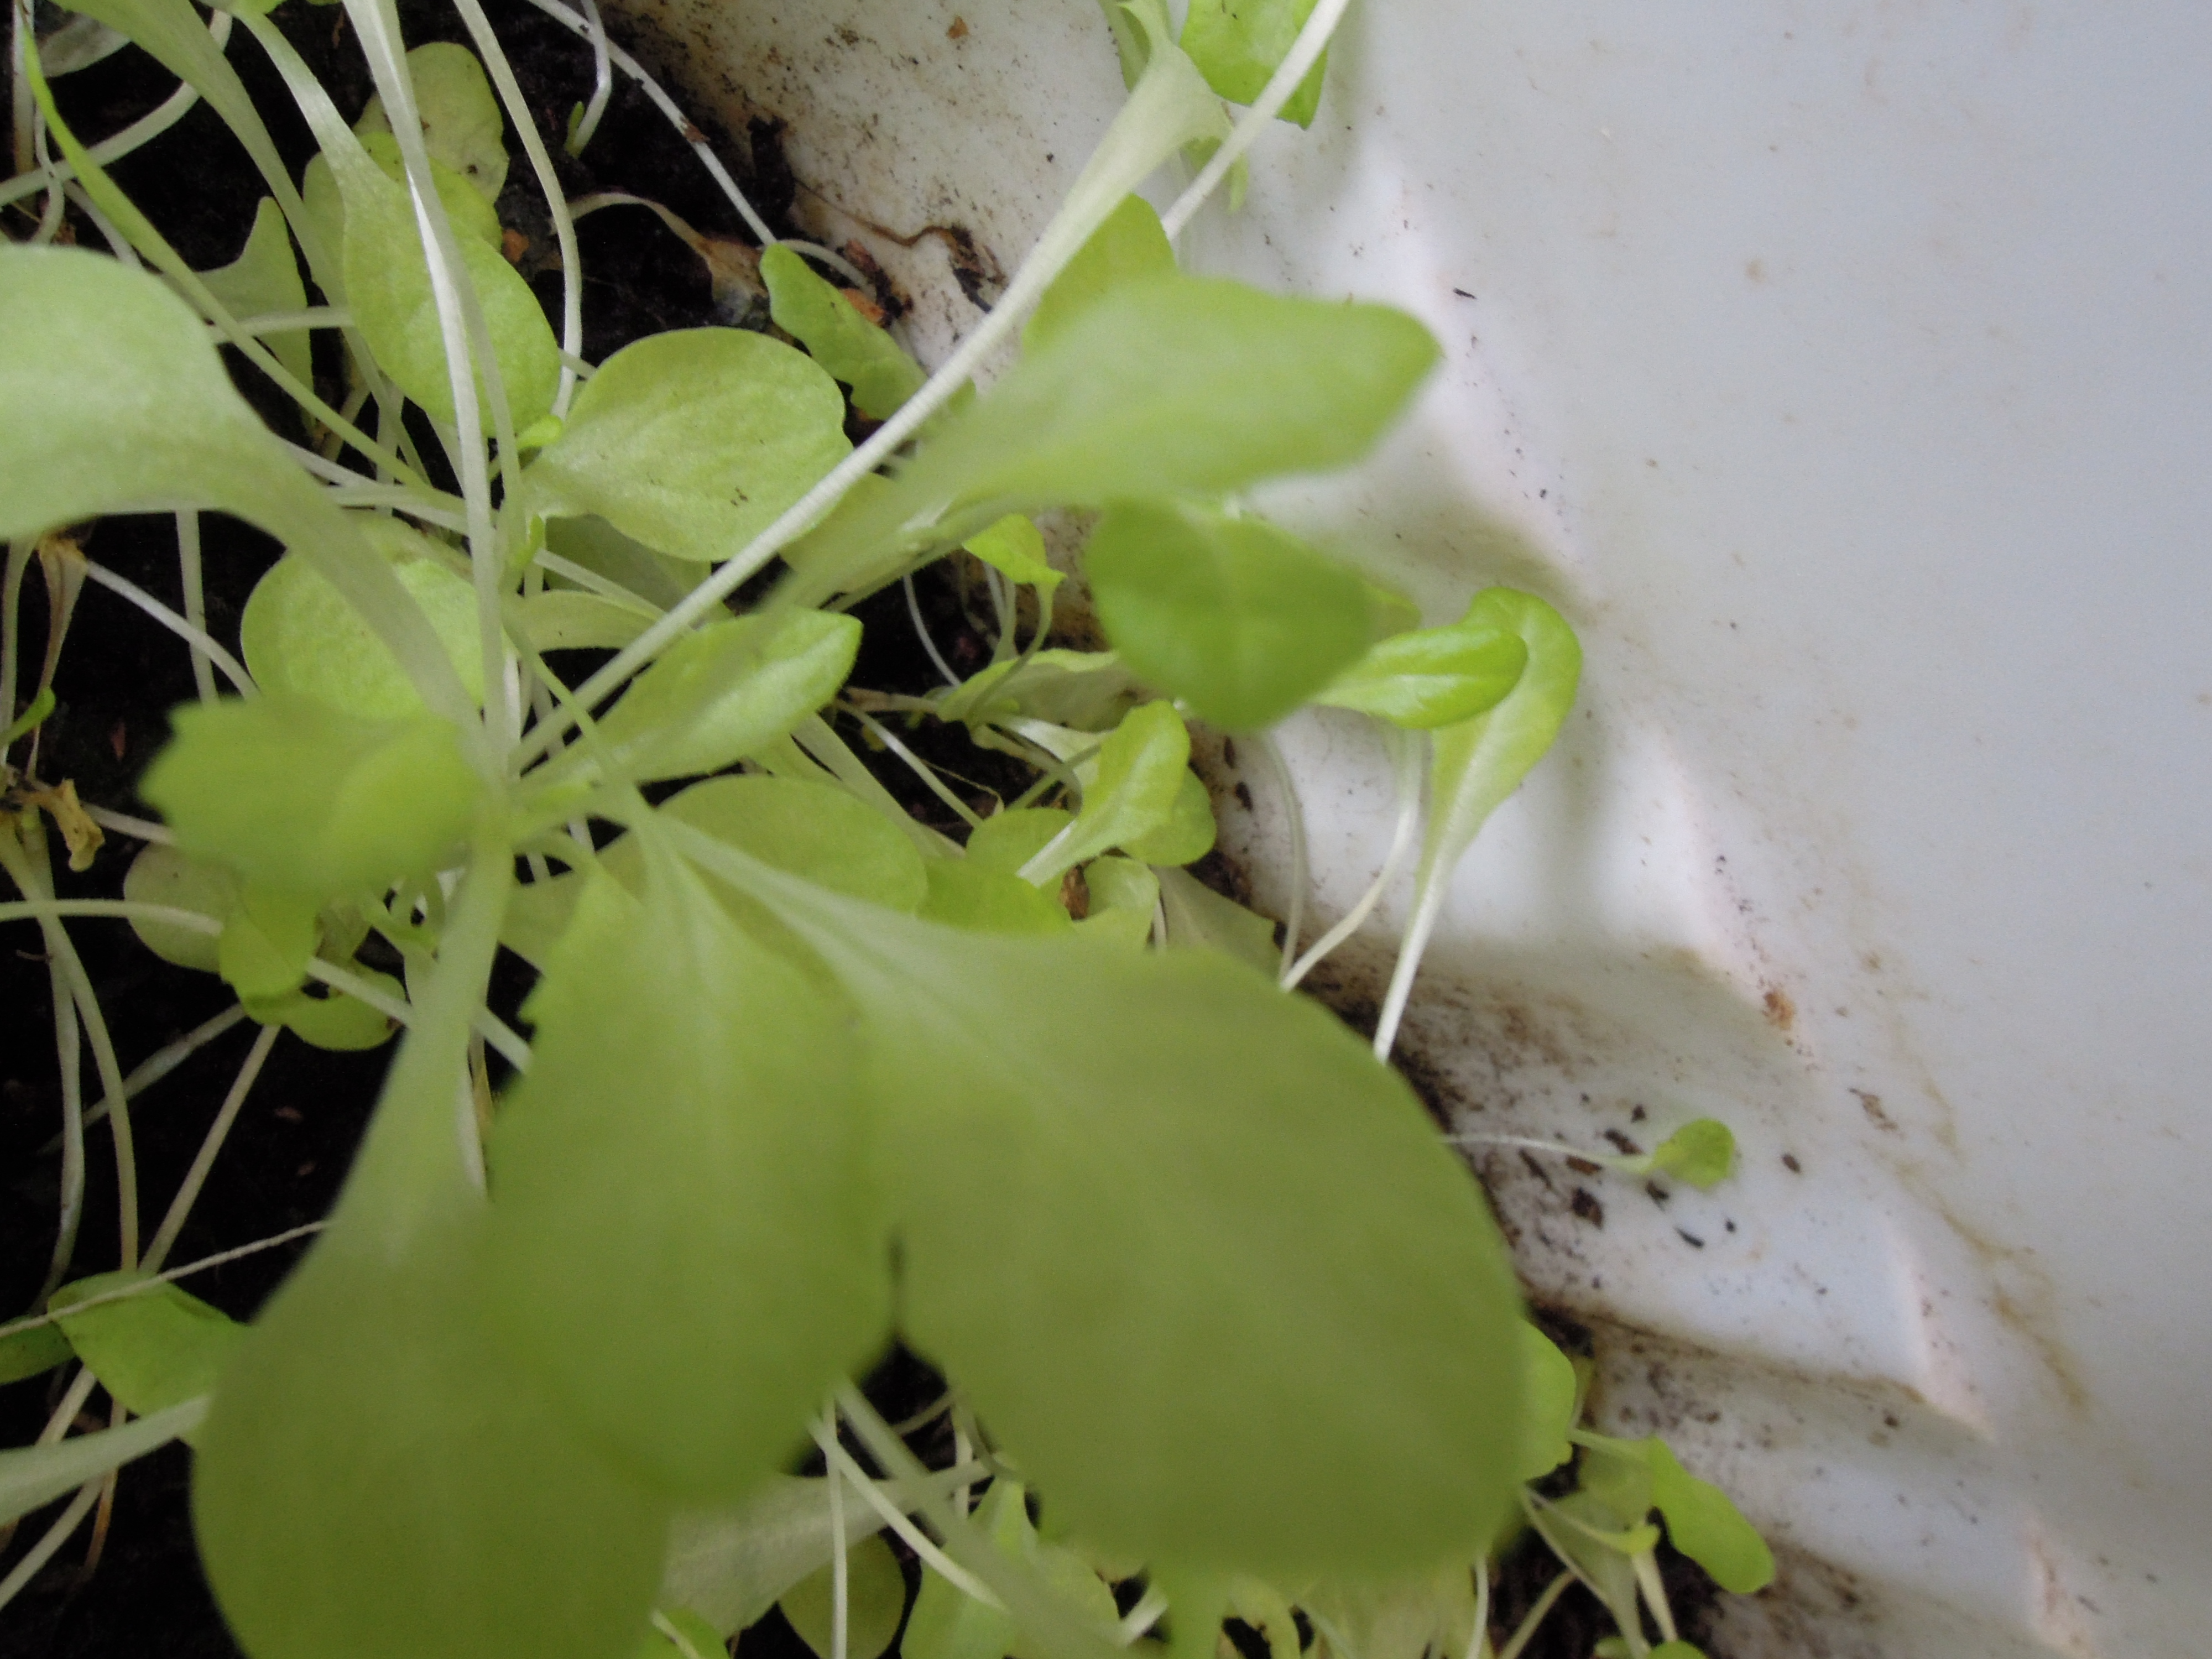weeek6: (9, 71, 1597, 1659)
